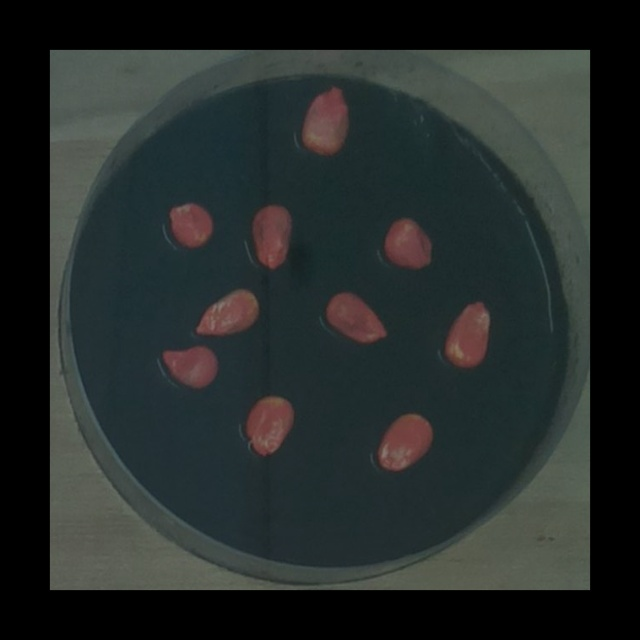Zea mays: (295, 79, 356, 160), (370, 406, 439, 476), (188, 281, 266, 342), (439, 292, 498, 372), (238, 389, 301, 463), (321, 286, 392, 350), (244, 197, 298, 276), (379, 211, 439, 274), (155, 338, 223, 393), (162, 195, 218, 253)
